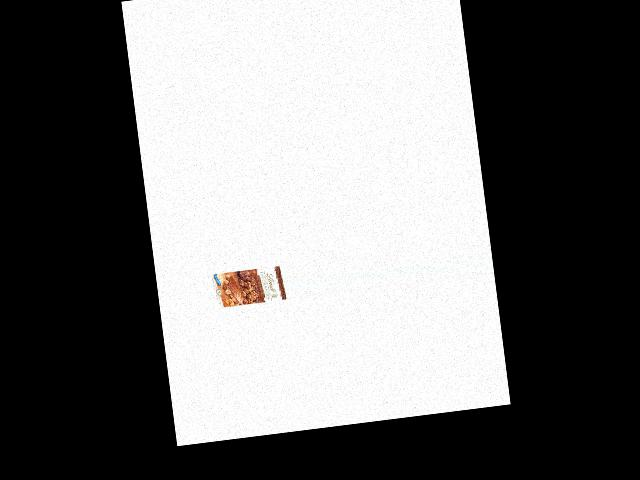chocolate: (212, 263, 284, 313)
